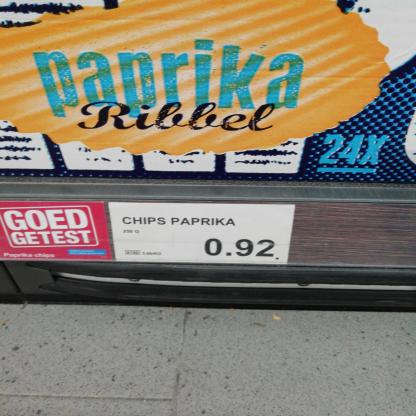prtg: (109, 203, 297, 266)
